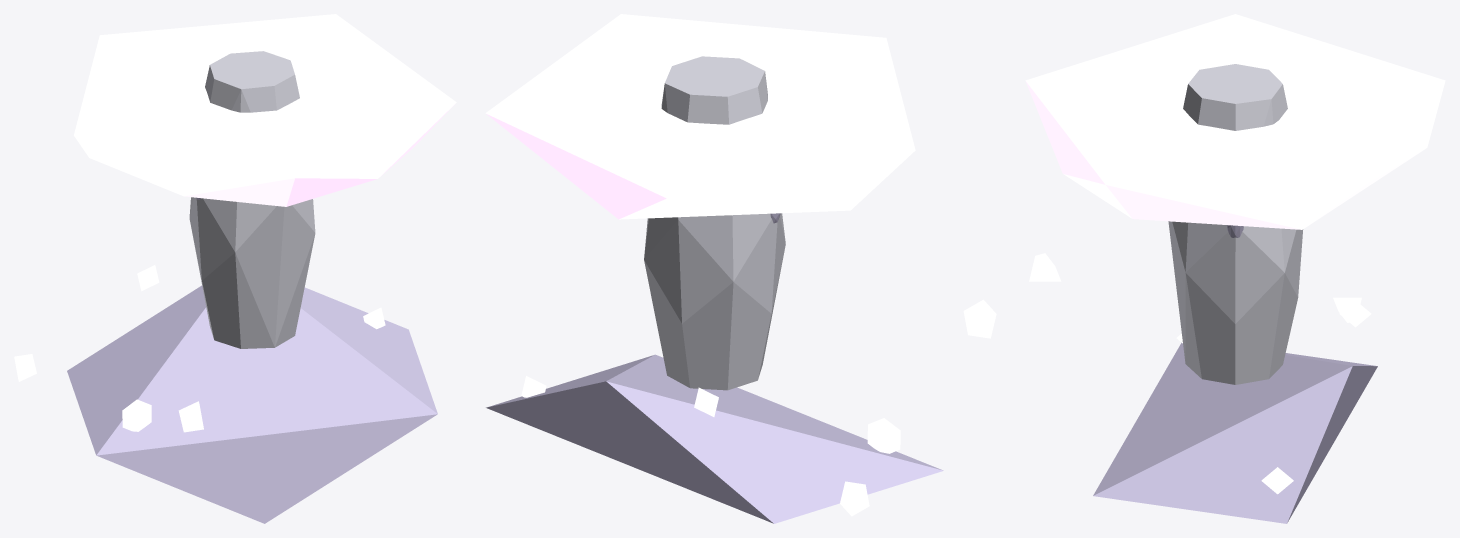
The model's file is 50-Vegetacion_hongo_luminoso.glb.
3 renders of one model, left to right at view 1: azimuth 30°, elevation 25°; view 2: azimuth 150°, elevation 25°; view 3: azimuth 270°, elevation 25°, orthographic. The views are drawn at different scales.
Visible parts, largest first — view 1: SM_Piedra_M_Piedra_Cueva, SM_Piedra_M_Hongo_Capa, SM_Piedra_M_Hongo_Pie, SM_Piedra_M_Hongo_Mota; view 2: SM_Piedra_M_Hongo_Capa, SM_Piedra_M_Piedra_Cueva, SM_Piedra_M_Hongo_Pie, SM_Piedra_M_Hongo_Mota; view 3: SM_Piedra_M_Hongo_Capa, SM_Piedra_M_Piedra_Cueva, SM_Piedra_M_Hongo_Pie, SM_Piedra_M_Hongo_Mota.
Part boxes in pixels (<box>): SM_Piedra_M_Piedra_Cueva: <box>67,285,437,523</box>; SM_Piedra_M_Hongo_Capa: <box>74,14,456,206</box>; SM_Piedra_M_Hongo_Pie: <box>189,51,315,348</box>; SM_Piedra_M_Hongo_Mota: <box>14,265,385,432</box>; SM_Piedra_M_Hongo_Capa: <box>485,14,915,219</box>; SM_Piedra_M_Piedra_Cueva: <box>486,354,943,523</box>; SM_Piedra_M_Hongo_Pie: <box>644,56,785,390</box>; SM_Piedra_M_Hongo_Mota: <box>521,299,996,516</box>; SM_Piedra_M_Hongo_Capa: <box>1025,14,1445,229</box>; SM_Piedra_M_Piedra_Cueva: <box>1093,342,1377,523</box>; SM_Piedra_M_Hongo_Pie: <box>1168,64,1303,384</box>; SM_Piedra_M_Hongo_Mota: <box>1029,253,1371,494</box>.
Bounding box in the file's own units: 1.25 × 1.31 × 1.15.
